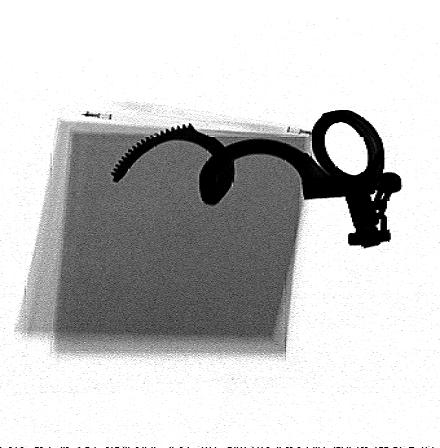HandCuffs: (111, 109, 402, 249)
